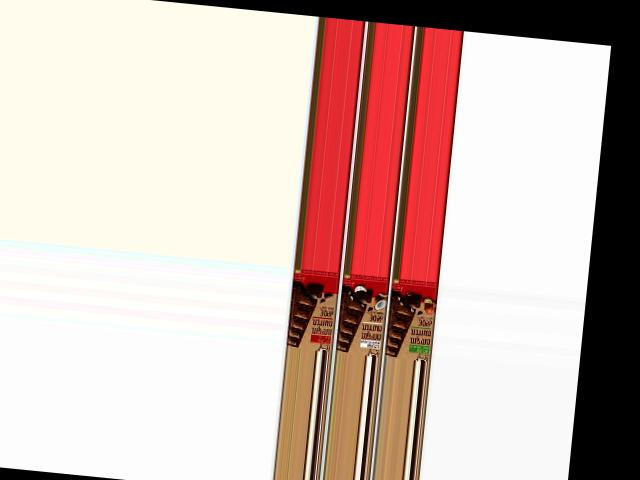chocolate: (385, 277, 440, 361)
